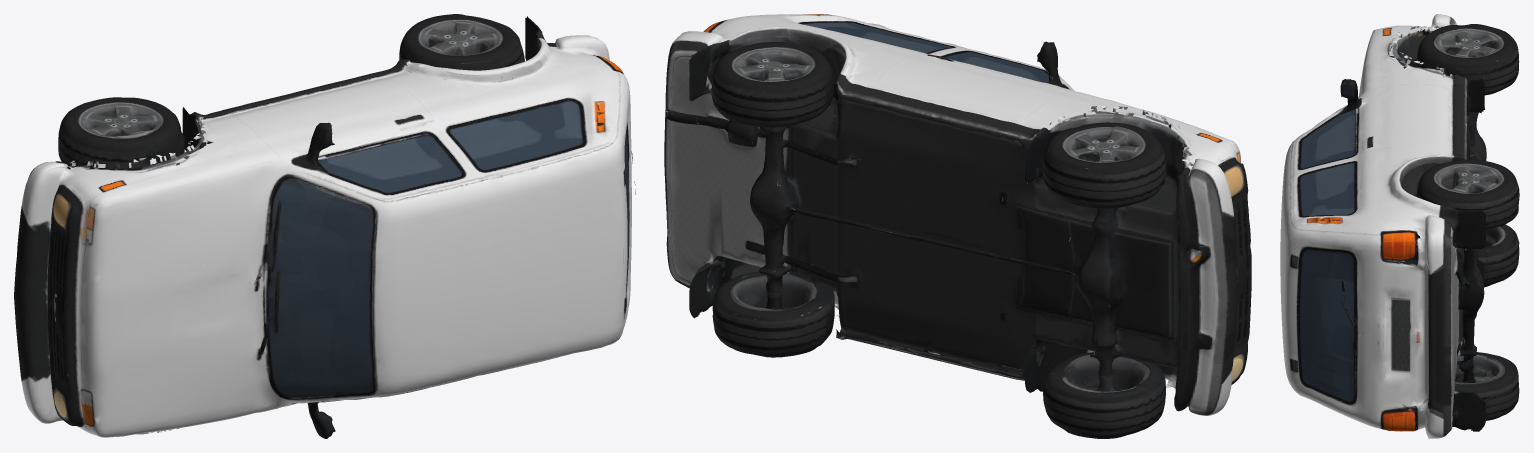
The model's file is niva.glb.
The picture shows the model from 3 angles, left to right: view 1: azimuth 30°, elevation 25°; view 2: azimuth 150°, elevation 25°; view 3: azimuth 270°, elevation 25°; orthographic projection. The views are drawn at different scales.
Visible parts, largest first — view 1: niva; view 2: niva; view 3: niva.
Boxes of the visible parts, x1,y1,x2,y2 form: niva: (14,14,635,438); niva: (664,14,1251,438); niva: (1280,14,1519,438).
Bounding box in the file's own units: 3.74 × 1.91 × 1.62.
1 material, 1 textured.
